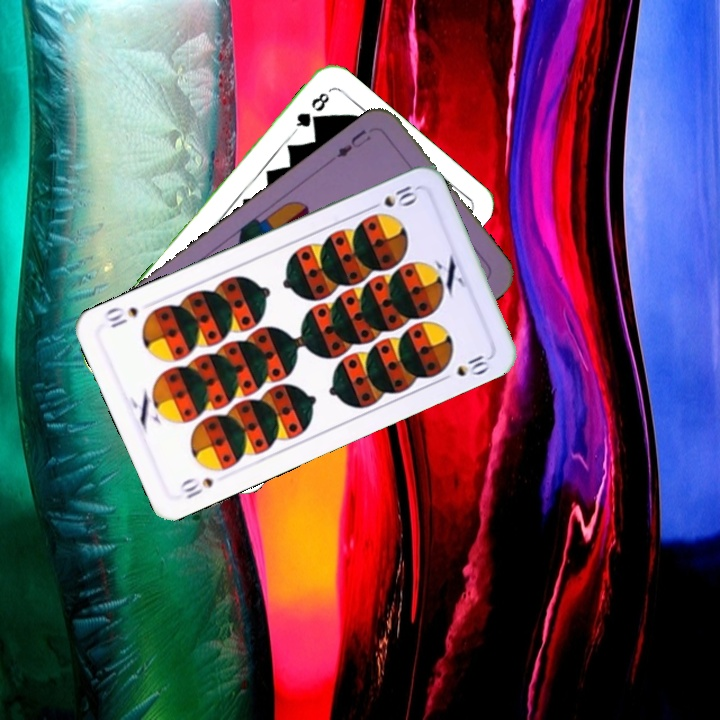EU: (332, 125, 374, 161)
G8: (289, 88, 332, 135)
S10: (364, 181, 421, 213), (175, 473, 216, 502)
